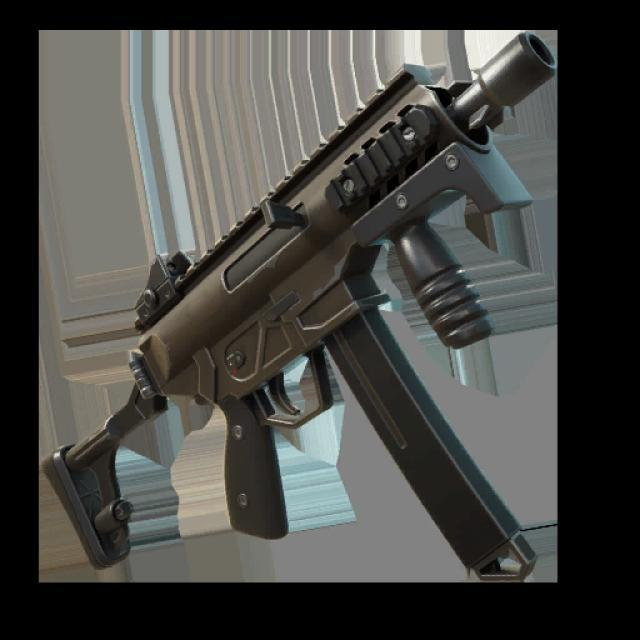smg: (23, 18, 576, 640)
